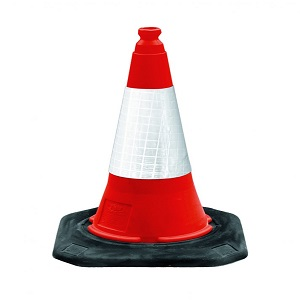traffic cone: (52, 27, 248, 267)
